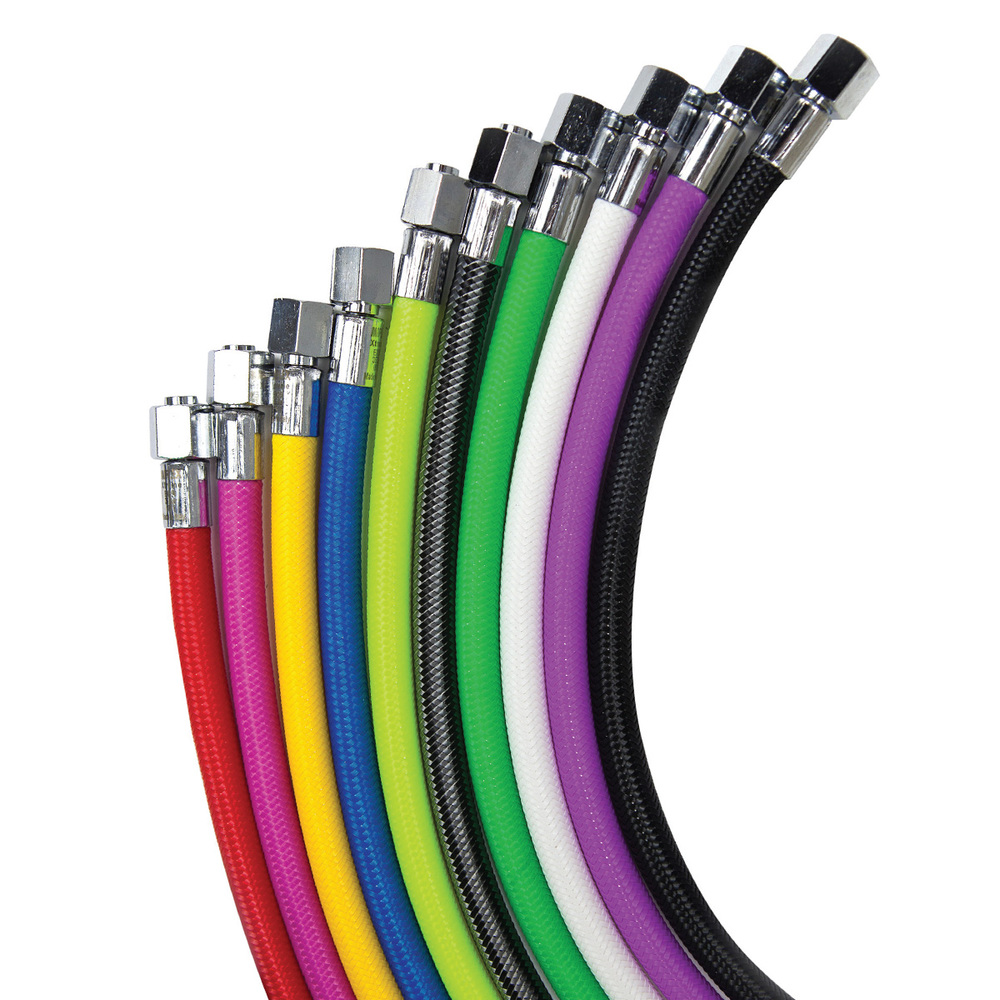Nonrec_Tangler: (140, 44, 935, 975)
